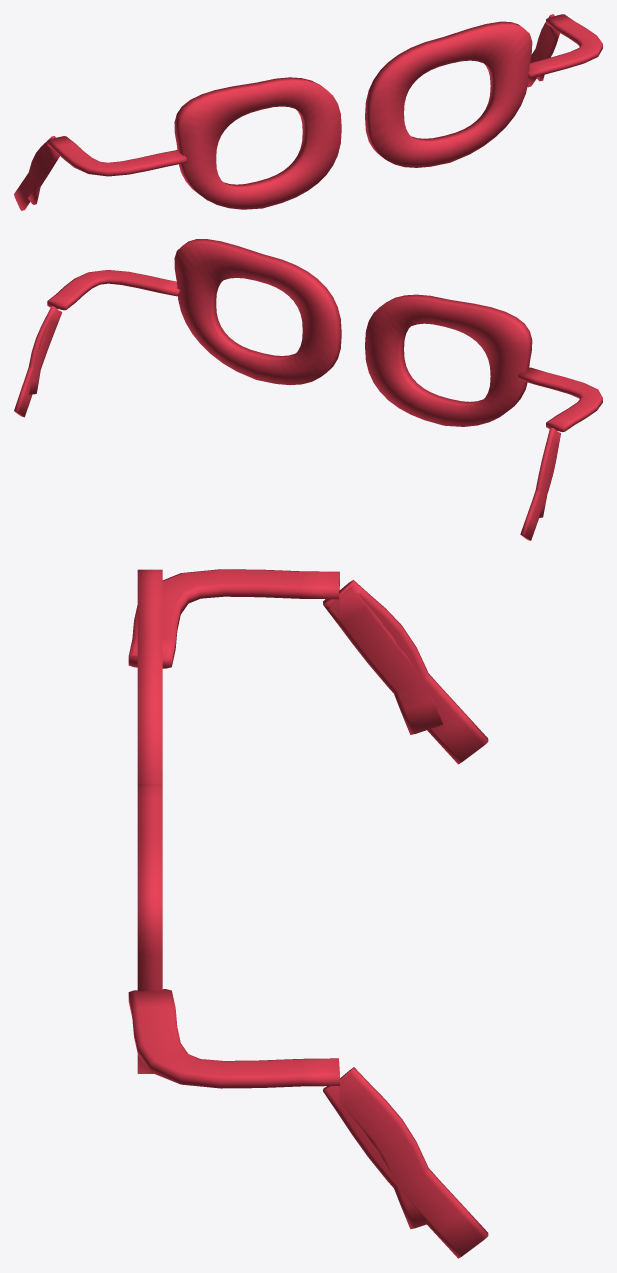
File: hero_mask-lion.glb
3 renders of one model, top to bottom at view 1: azimuth 30°, elevation 25°; view 2: azimuth 150°, elevation 25°; view 3: azimuth 270°, elevation 25°, orthographic. The views are drawn at different scales.
Visible parts, largest first — view 1: mask, mask.001, tie.001, tie, tail.003, tail.002, tail.001; view 2: mask, mask.001, tie, tie.001, tail.001, tail.002, tail.003, tail; view 3: tie, tail.003, tie.001, mask.001, mask, tail, tail.001, tail.002.
Part boxes in pixels (x1,y1,x2,y2): mask: [365, 21, 532, 167]; mask.001: [174, 77, 341, 209]; tie.001: [47, 136, 186, 176]; tie: [528, 14, 602, 78]; tail.003: [14, 151, 59, 210]; tail.002: [28, 136, 55, 204]; tail.001: [527, 16, 559, 87]; mask: [174, 239, 341, 384]; mask.001: [365, 294, 532, 426]; tie: [47, 270, 179, 310]; tie.001: [518, 367, 602, 431]; tail.001: [14, 308, 62, 417]; tail.002: [535, 427, 558, 517]; tail.003: [520, 432, 560, 540]; tail: [28, 306, 61, 394]; tie: [128, 989, 339, 1088]; tail.003: [323, 586, 488, 764]; tie.001: [128, 569, 339, 668]; mask.001: [137, 569, 162, 783]; mask: [137, 784, 162, 1073]; tail: [339, 1067, 429, 1229]; tail.001: [323, 1086, 488, 1258]; tail.002: [325, 580, 442, 734].
Size of the model in its own units: 1.35 by 0.3604 by 0.4031.
